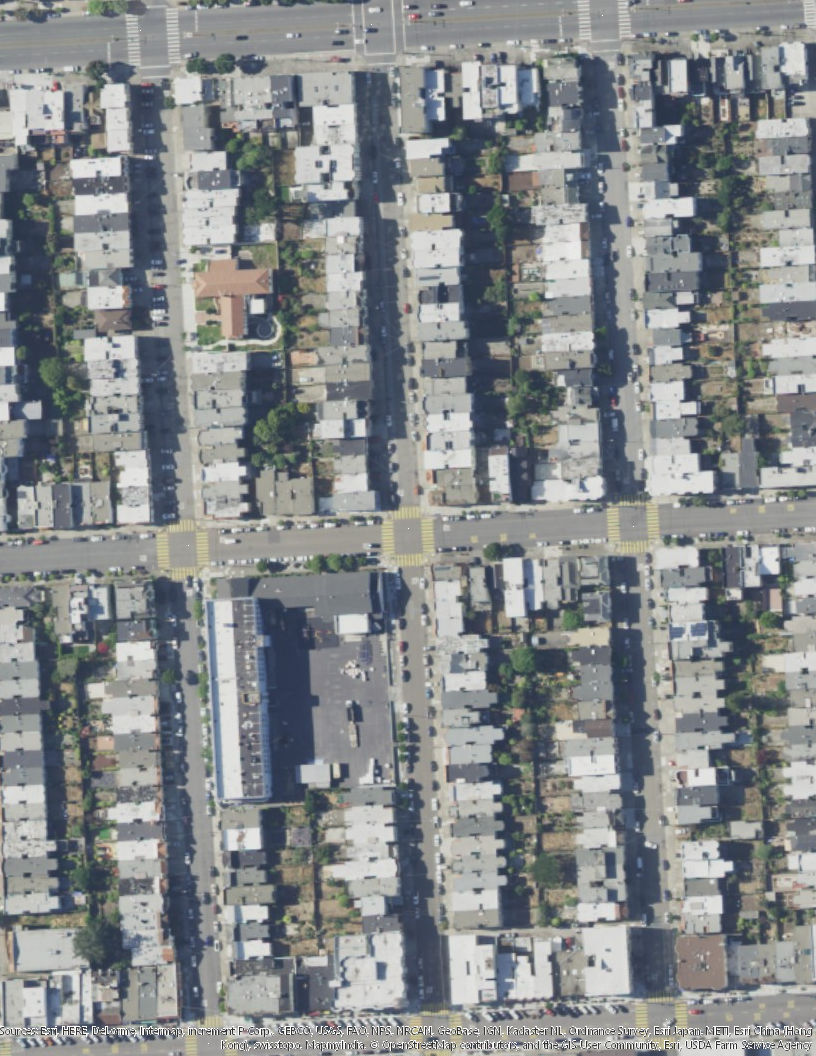zebracross: (126, 8, 144, 66), (166, 6, 182, 64), (420, 513, 436, 554), (578, 1, 593, 41), (165, 517, 196, 534), (381, 518, 396, 552), (606, 506, 621, 540), (393, 504, 422, 521), (646, 503, 660, 538), (618, 1, 632, 36), (617, 492, 647, 508), (196, 531, 210, 564), (450, 1013, 463, 1047), (420, 1003, 451, 1017), (156, 534, 169, 567), (618, 541, 651, 554), (395, 552, 423, 567), (674, 1000, 689, 1028), (197, 1014, 226, 1028), (633, 1001, 647, 1028), (645, 990, 675, 1002), (802, 2, 816, 27), (410, 1015, 422, 1043), (184, 1035, 200, 1056), (171, 566, 195, 579), (1, 1037, 12, 1056)
